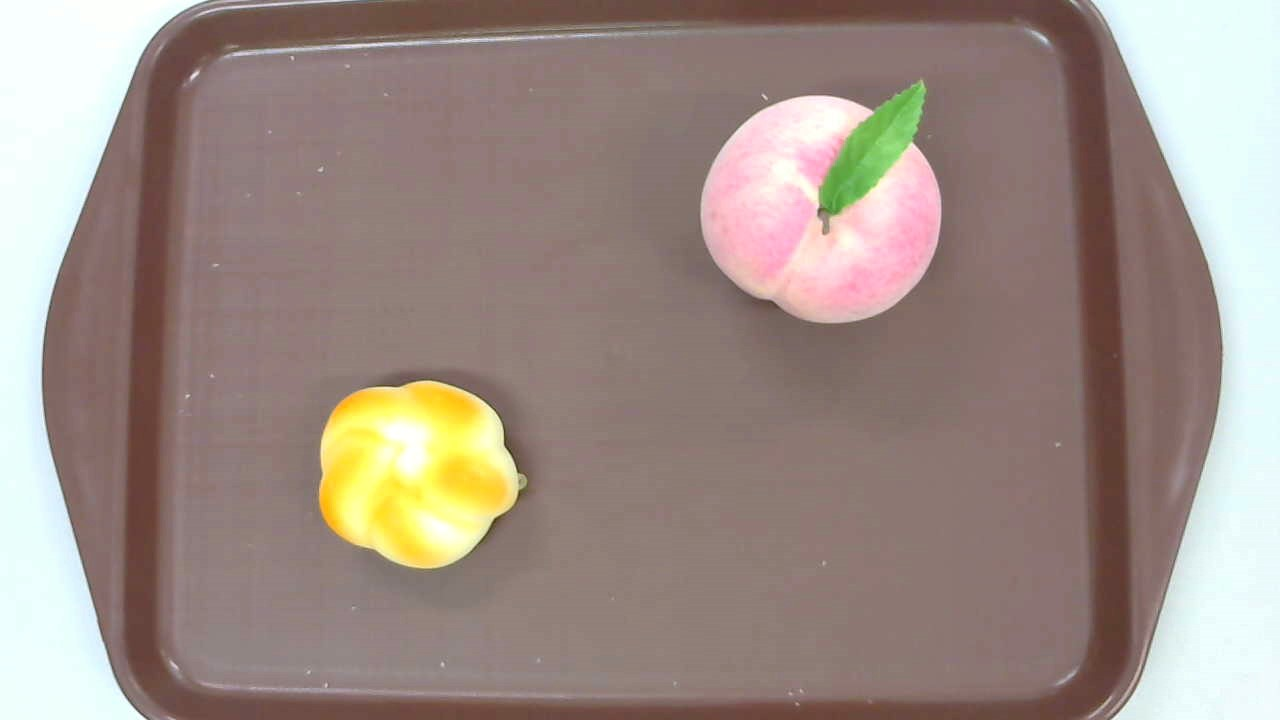peach: (700, 78, 941, 325)
twist bread: (317, 381, 528, 567)
